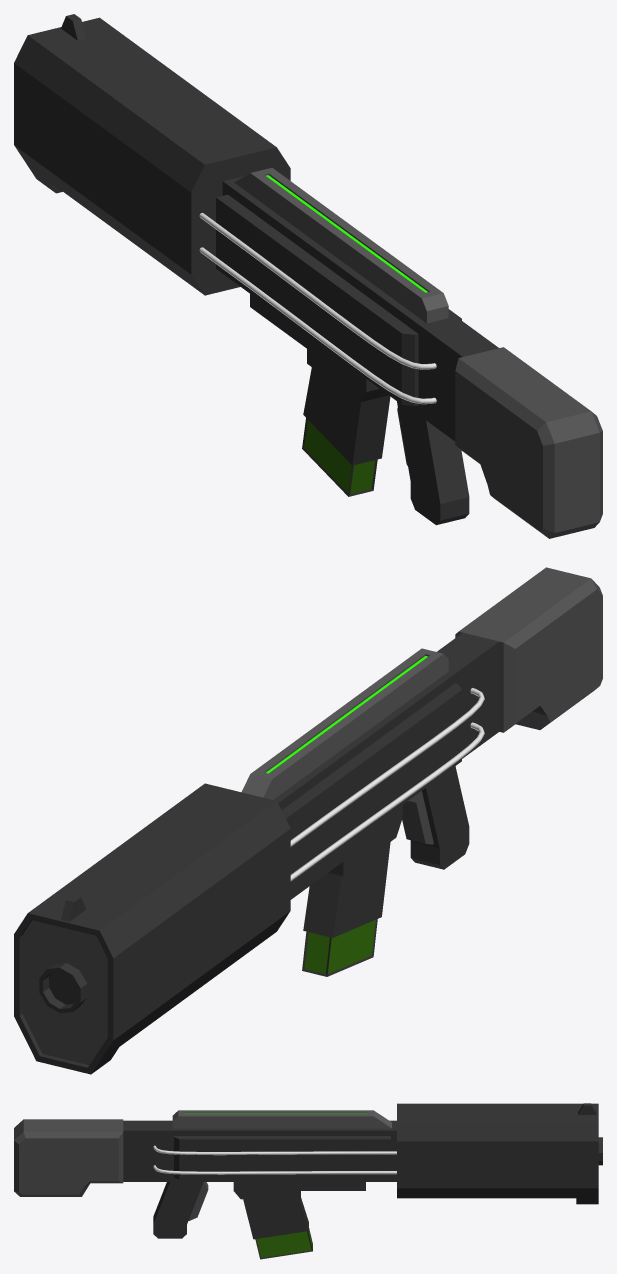
The model's file is bean rifle.fbx.
3 renders of one model, top to bottom at view 1: azimuth 30°, elevation 25°; view 2: azimuth 150°, elevation 25°; view 3: azimuth 270°, elevation 25°, orthographic. The views are drawn at different scales.
Visible parts, largest first — view 1: Bean Rifle; view 2: Bean Rifle; view 3: Bean Rifle.
Boxes of the visible parts, <box> form: Bean Rifle: <box>14,14,602,538</box>; Bean Rifle: <box>14,567,602,1074</box>; Bean Rifle: <box>14,1103,602,1259</box>.
Size of the model in its own units: 16.35 by 41.78 by 147.
